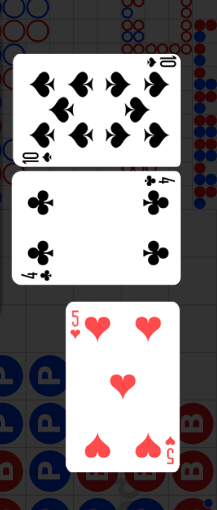10S: (144, 56, 177, 70)
4C: (20, 267, 54, 282)
5H: (163, 434, 176, 465)
